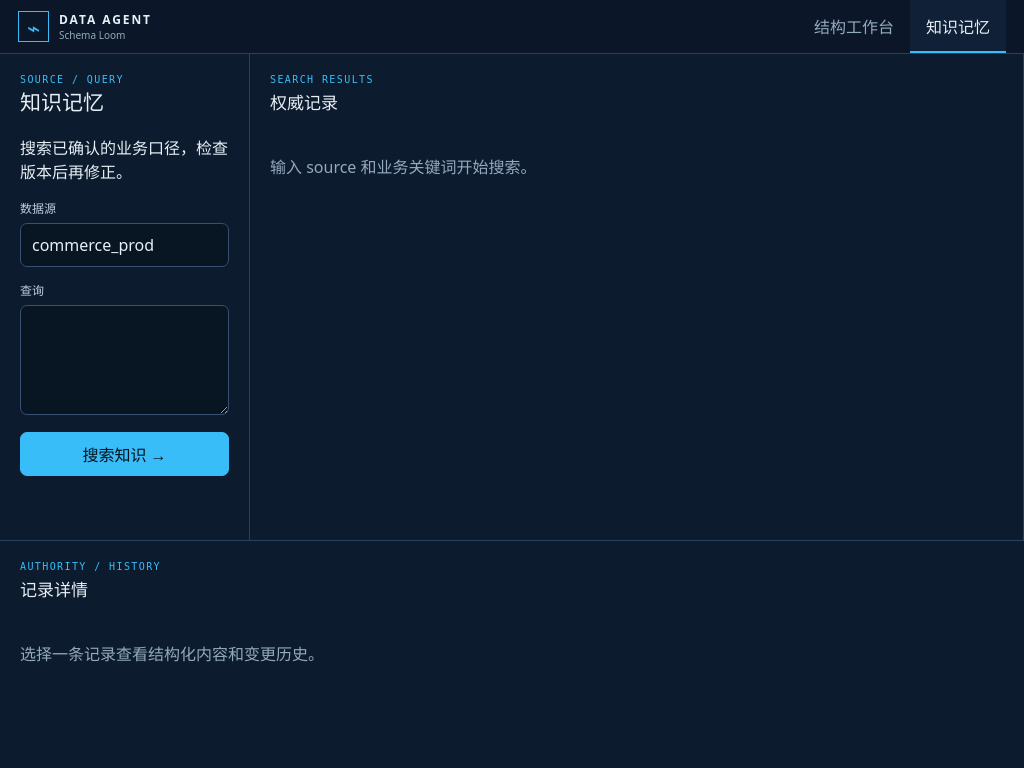
Test: application shell › uses the workbench root when navigating from a directly loaded knowledge page
This screenshot has width=1024, height=768.
Click the link "结构工作台": (854, 26) [814,16,894,38]
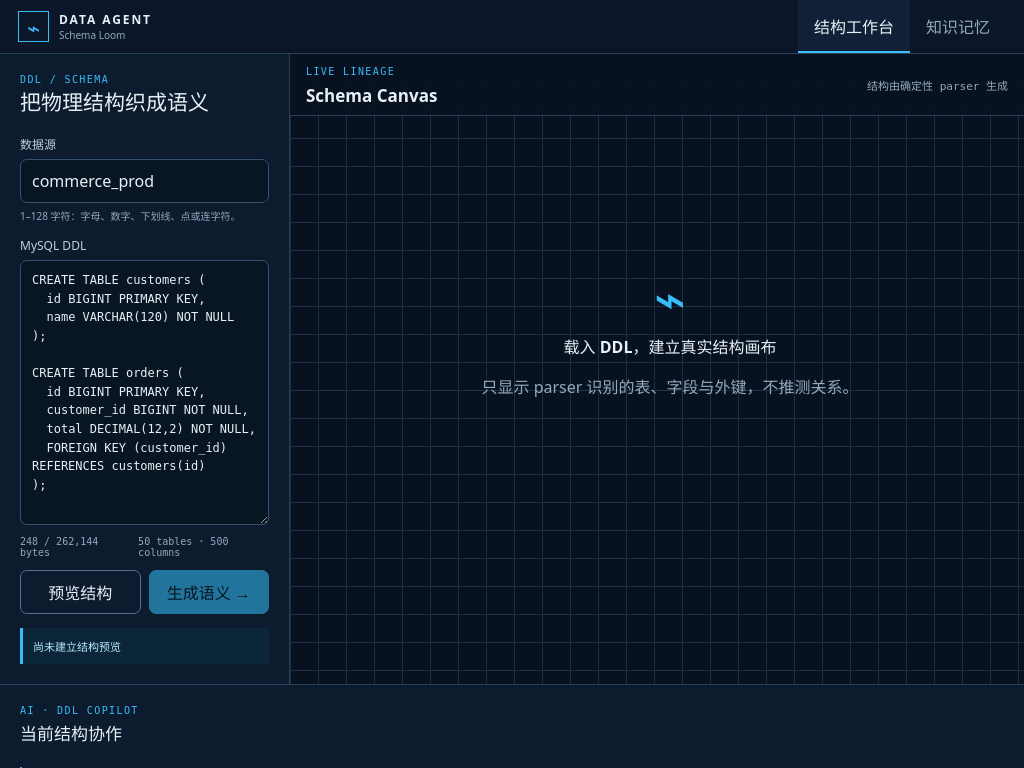
Now the heading "把物理结构织成语义" is shown, box [20,88,209,116]
